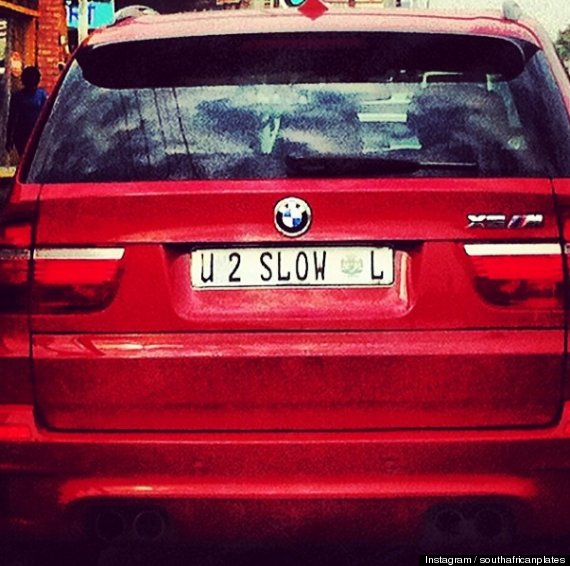license plate: (188, 246, 399, 297)
